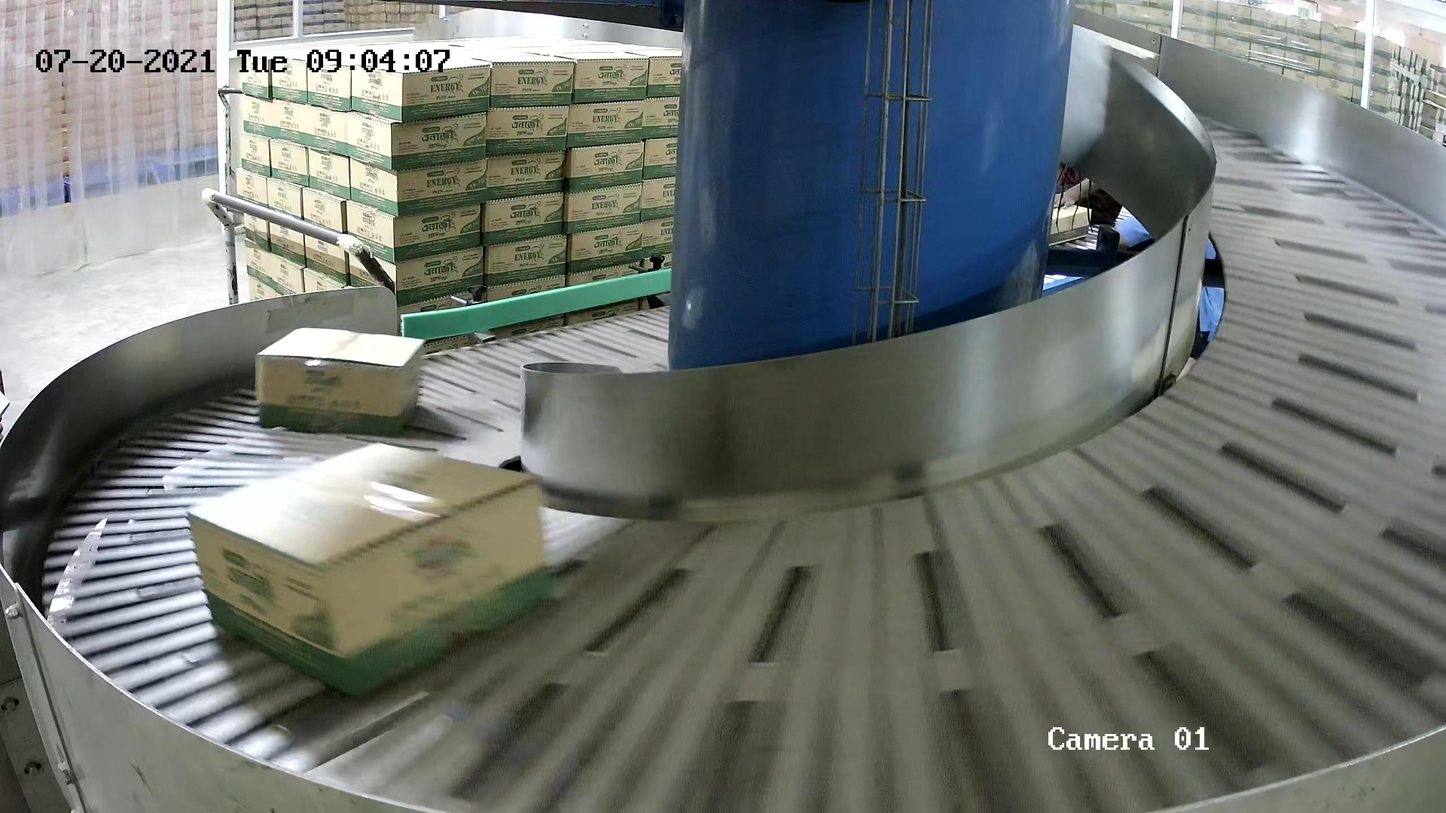Box: (183, 438, 549, 700), (252, 324, 428, 440)
